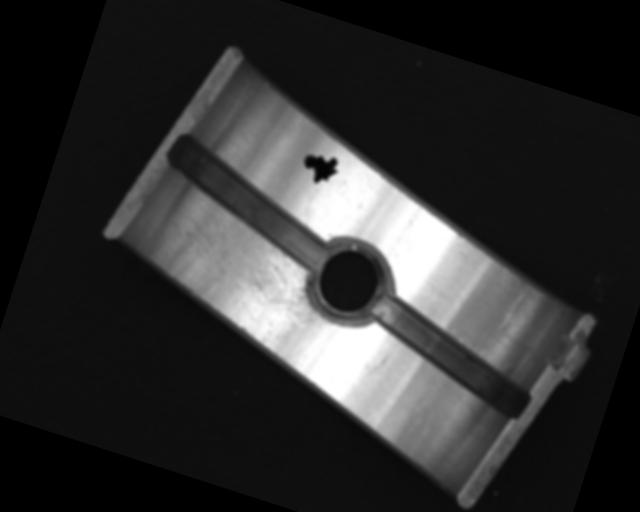blot: (296, 147, 344, 191)
gap: (152, 133, 346, 271), (353, 292, 545, 422)
hole: (298, 225, 401, 335)
nick: (497, 280, 532, 333)
scratch: (132, 188, 355, 380)
